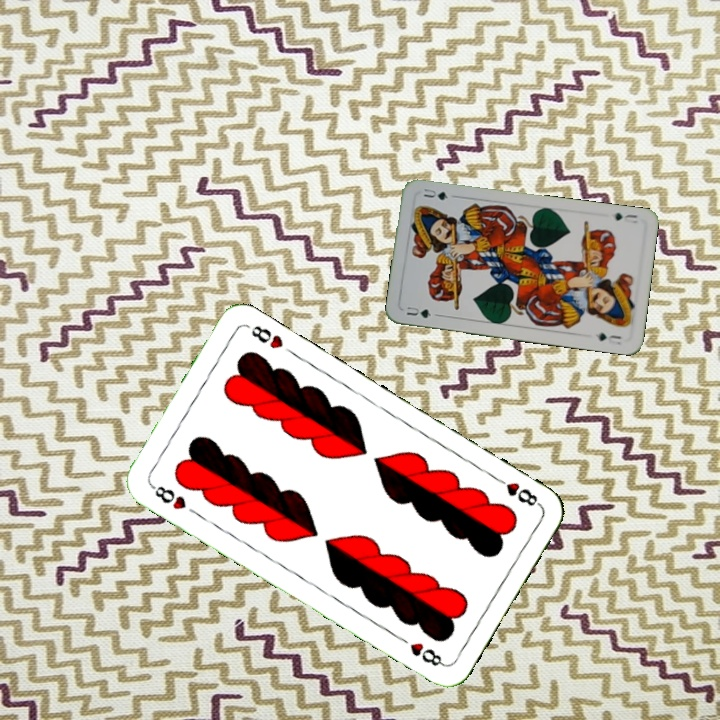GU: (403, 302, 434, 321), (610, 209, 640, 226)
H8: (490, 472, 544, 509), (145, 479, 189, 513)
